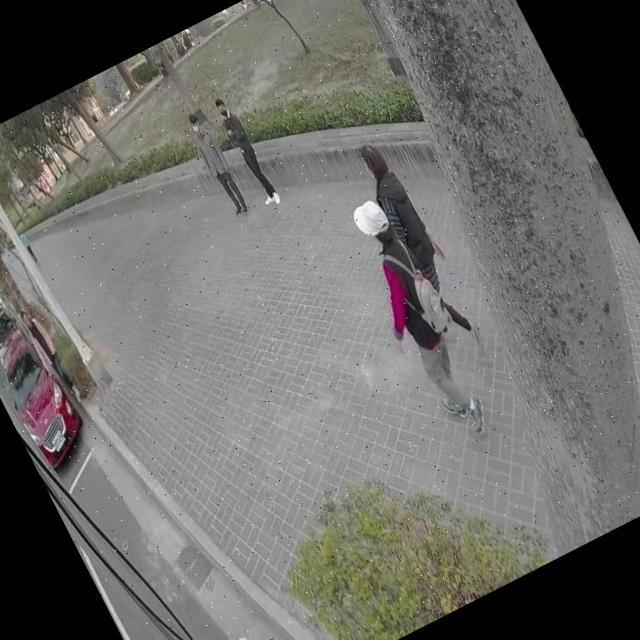person: (338, 185, 518, 448), (352, 138, 488, 358), (211, 94, 282, 210), (184, 113, 253, 221), (16, 302, 80, 404), (16, 225, 42, 266)
